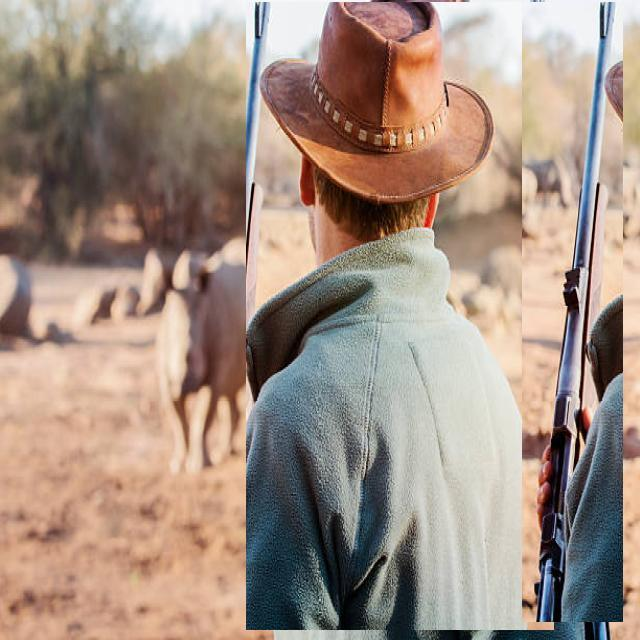p_obj: (144, 244, 274, 470)
poacher: (246, 2, 554, 630)
weapon: (522, 1, 623, 622)
